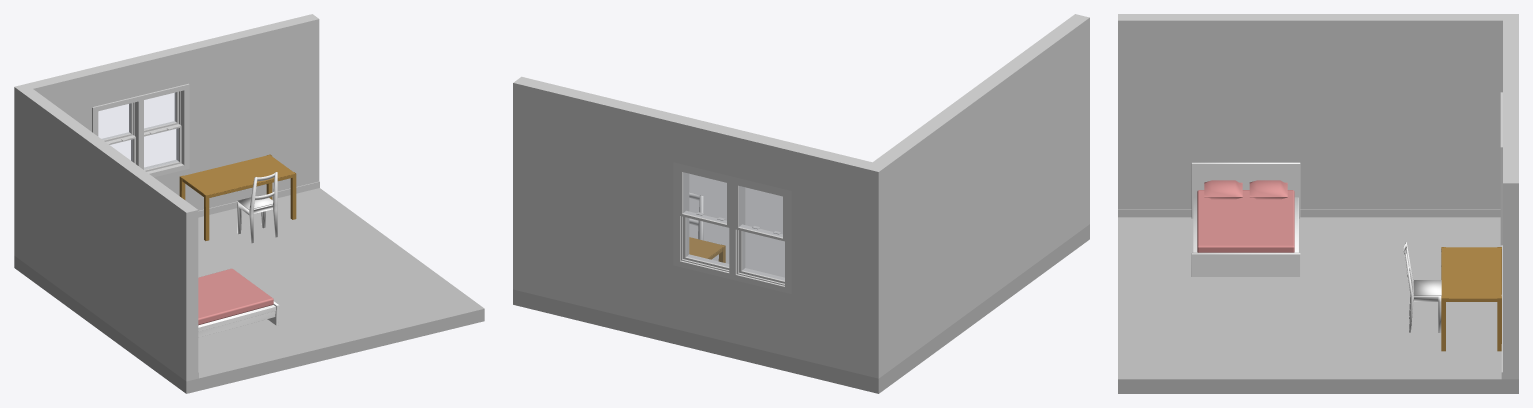
The model's file is L16_W16_furniture2_daylight2.glb.
The picture shows the model from 3 angles, left to right: view 1: azimuth 30°, elevation 25°; view 2: azimuth 150°, elevation 25°; view 3: azimuth 270°, elevation 25°; orthographic projection. The views are drawn at different scales.
Bounding box in the file's own units: 200 × 116 × 200.
